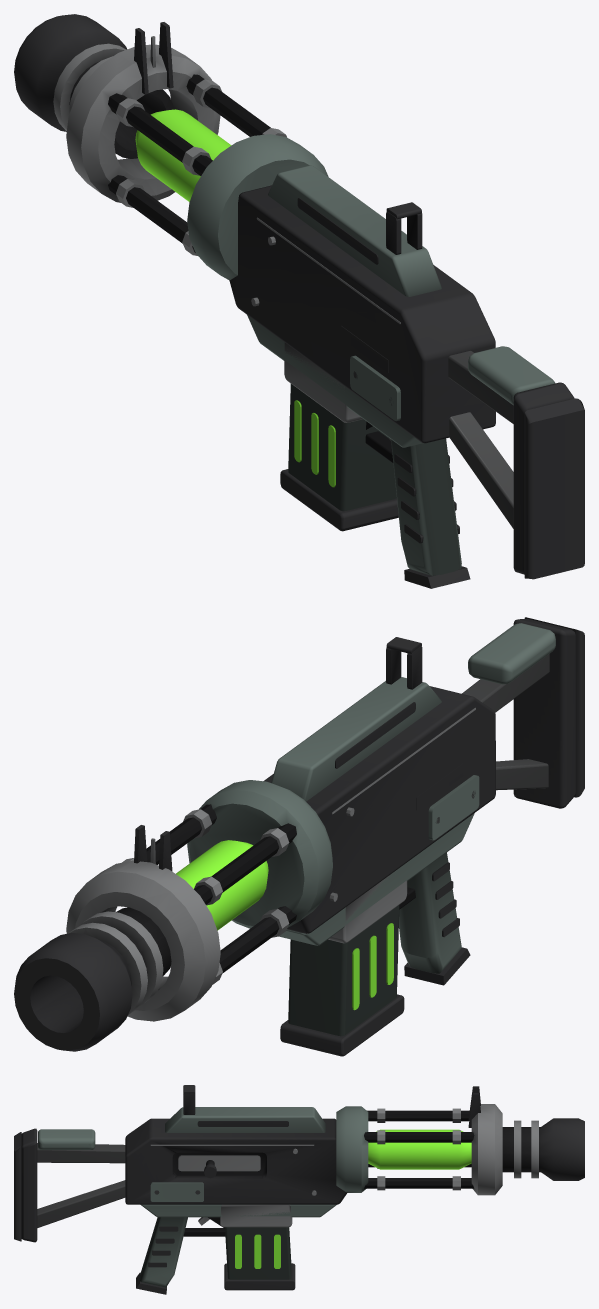
The model's file is siphon.glb.
3 views of the same model, one above another, from view 1: azimuth 30°, elevation 25°; view 2: azimuth 150°, elevation 25°; view 3: azimuth 270°, elevation 25° (orthographic). The views are drawn at different scales.
Parts seen in each view (by area): view 1: Receiver, Emitter, Stock, Magazine, Core; view 2: Receiver, Emitter, Stock, Magazine, Core; view 3: Receiver, Emitter, Stock, Magazine, Core, Bolt.
Part boxes in pixels (x1=…): Receiver: x1=134, y1=22, x2=495, y2=588; Emitter: x1=14, y1=14, x2=328, y2=280; Stock: x1=448, y1=346, x2=584, y2=579; Magazine: x1=280, y1=383, x2=398, y2=531; Core: x1=135, y1=109, x2=231, y2=201; Receiver: x1=134, y1=637, x2=495, y2=985; Emitter: x1=14, y1=780, x2=332, y2=1051; Stock: x1=462, y1=617, x2=584, y2=808; Magazine: x1=280, y1=905, x2=404, y2=1056; Core: x1=176, y1=840, x2=268, y2=930; Receiver: x1=125, y1=1085, x2=480, y2=1294; Emitter: x1=336, y1=1104, x2=584, y2=1195; Stock: x1=14, y1=1128, x2=125, y2=1242; Magazine: x1=224, y1=1227, x2=295, y2=1290; Core: x1=368, y1=1129, x2=471, y2=1169; Bolt: x1=178, y1=1155, x2=260, y2=1178.
Bounding box in the file's own units: 0.146 × 0.352 × 0.907.
